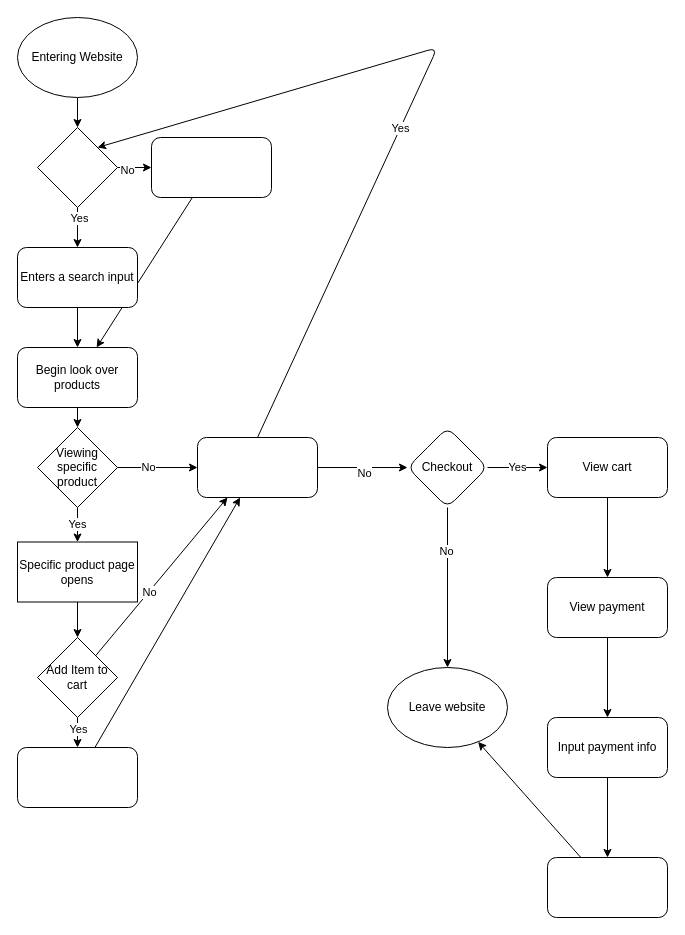
The diagram is 685 pixels wide and 935 high, and some of its shapes have lost their labels. The box of each missing label's shape, as (x1, y1, x2, y2) in pixels:
Cart added confirmation: (16, 746, 138, 808)
Continue shopping?: (196, 436, 318, 498)
Exploring products on the home page: (150, 136, 272, 198)
Order confirmation: (546, 856, 668, 918)
Search for a product: (36, 126, 118, 208)
